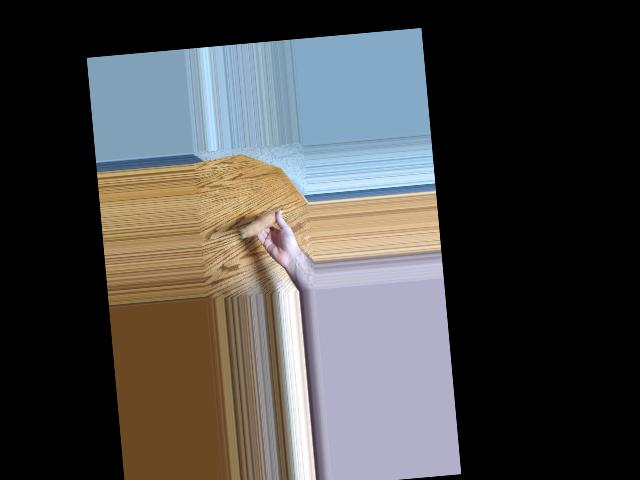sweet_potato: (238, 209, 282, 241)
